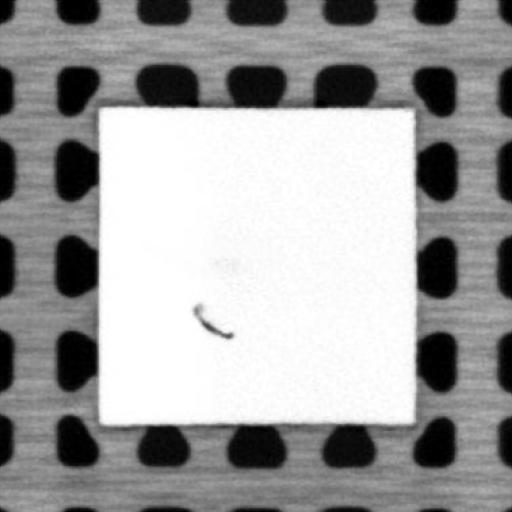DIE_INK: (190, 304, 236, 338)
